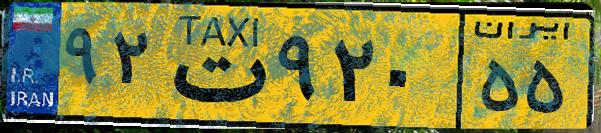0: (385, 28, 445, 110)
2: (330, 28, 385, 110), (110, 28, 158, 98)
5: (475, 38, 525, 113), (525, 38, 570, 115)
9: (270, 28, 330, 110), (57, 26, 110, 100)
ت: (158, 12, 270, 120)
